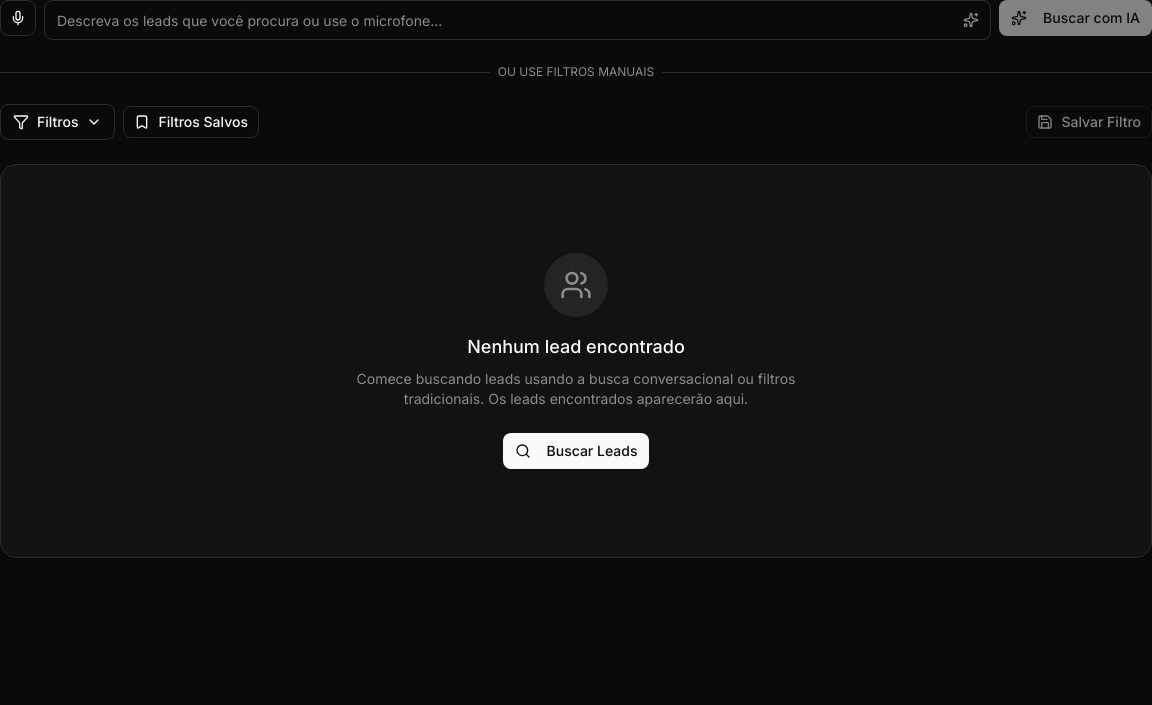
Test case: Filter Search Flow › handles API errors gracefully
Expand and search
Click the button with test id "filter-toggle-button" at [58, 122], box [0,104,115,140]
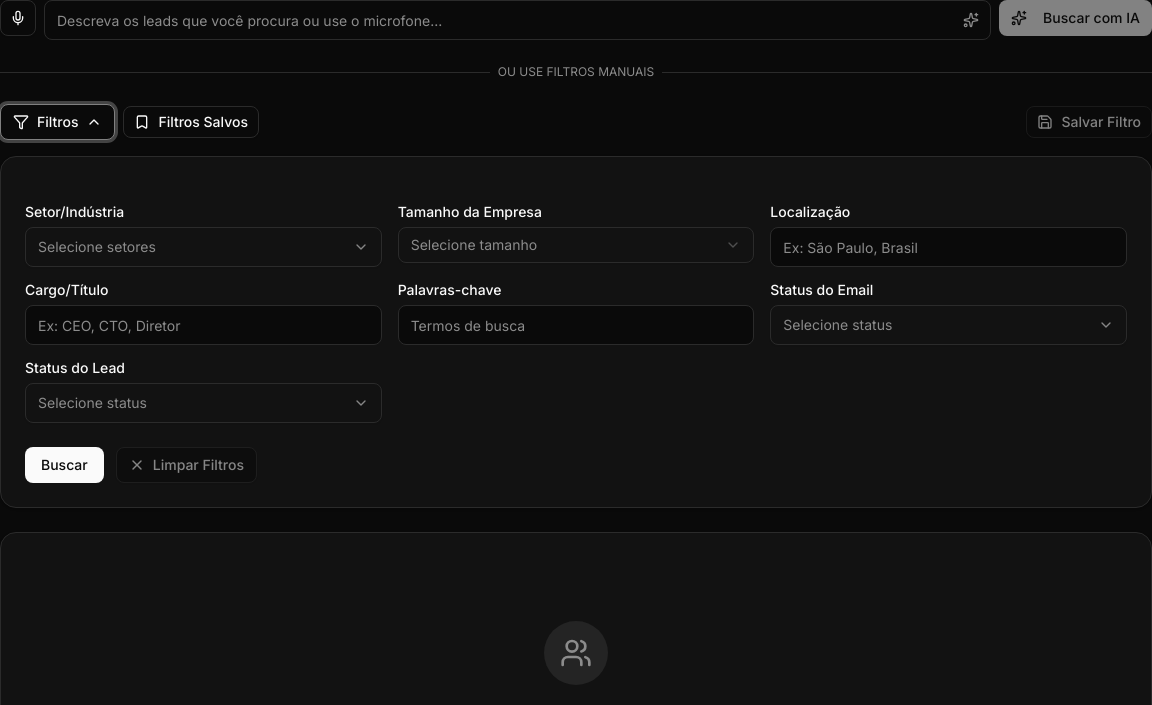
Click the button with test id "search-button" at [64, 465], box [25,447,104,483]
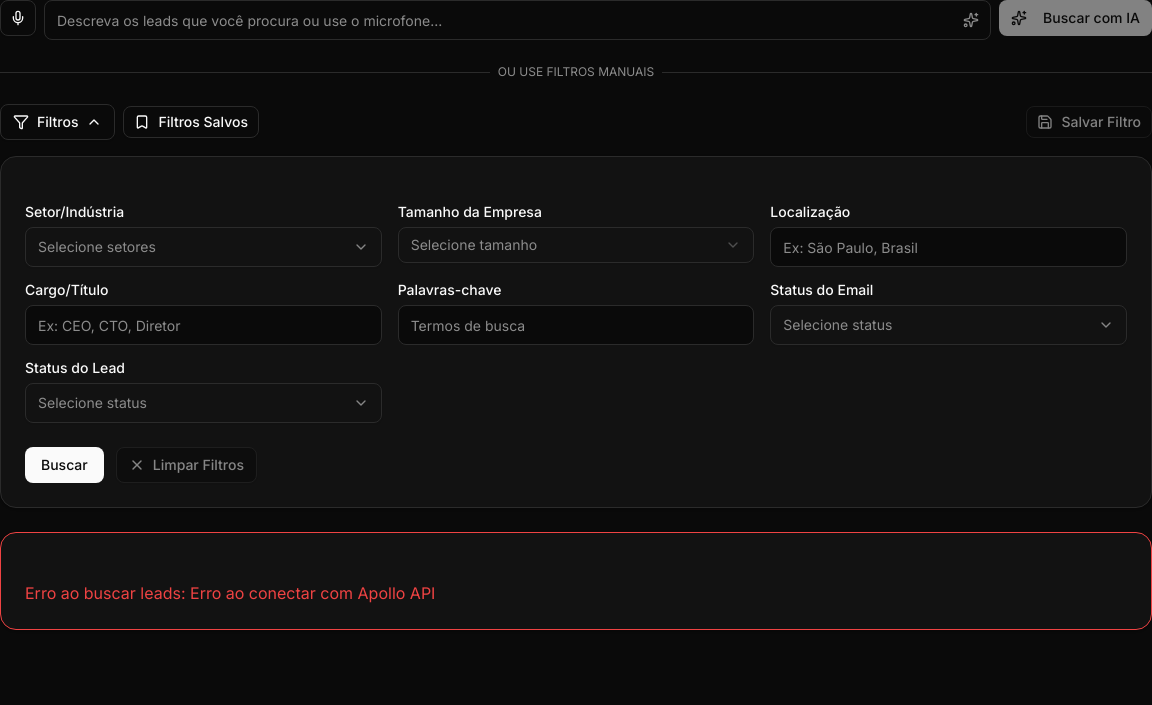
Expected: the text "Erro ao buscar leads: Erro ao conectar com Apollo API" is shown, [25,583,435,603]
